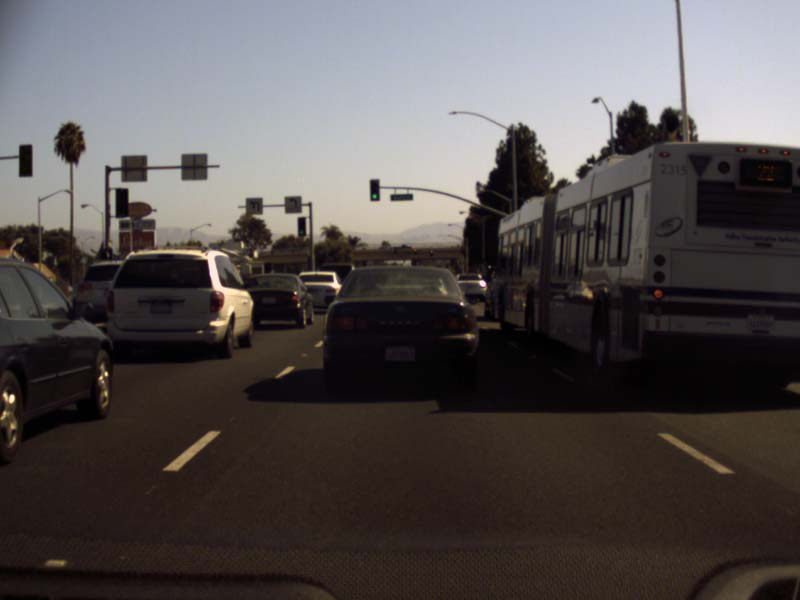Green: (370, 179, 379, 200), (297, 217, 305, 236)
Red: (429, 249, 433, 257), (413, 247, 417, 254)
